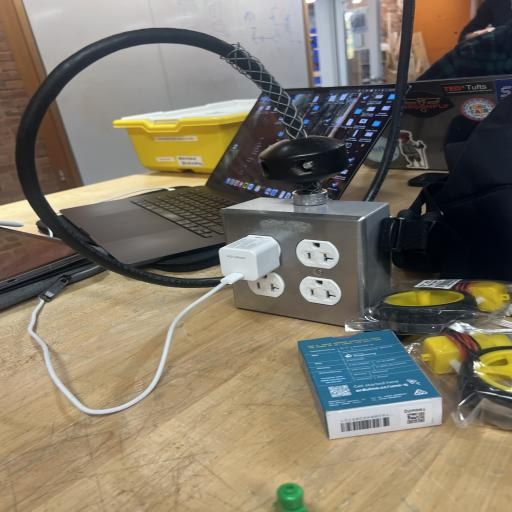green-lego-minifigure-detector: (274, 483, 307, 512)
